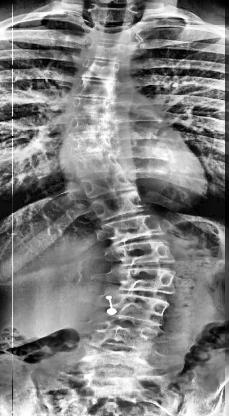Vertebrae: (89, 320, 159, 364), (105, 288, 171, 326), (97, 214, 168, 246), (116, 264, 182, 297), (108, 240, 176, 272), (91, 188, 151, 223), (68, 149, 128, 179), (77, 169, 136, 199), (65, 96, 131, 121), (64, 132, 121, 158), (65, 114, 124, 138), (70, 76, 128, 100), (86, 20, 134, 44), (84, 40, 130, 64), (77, 58, 123, 82)
